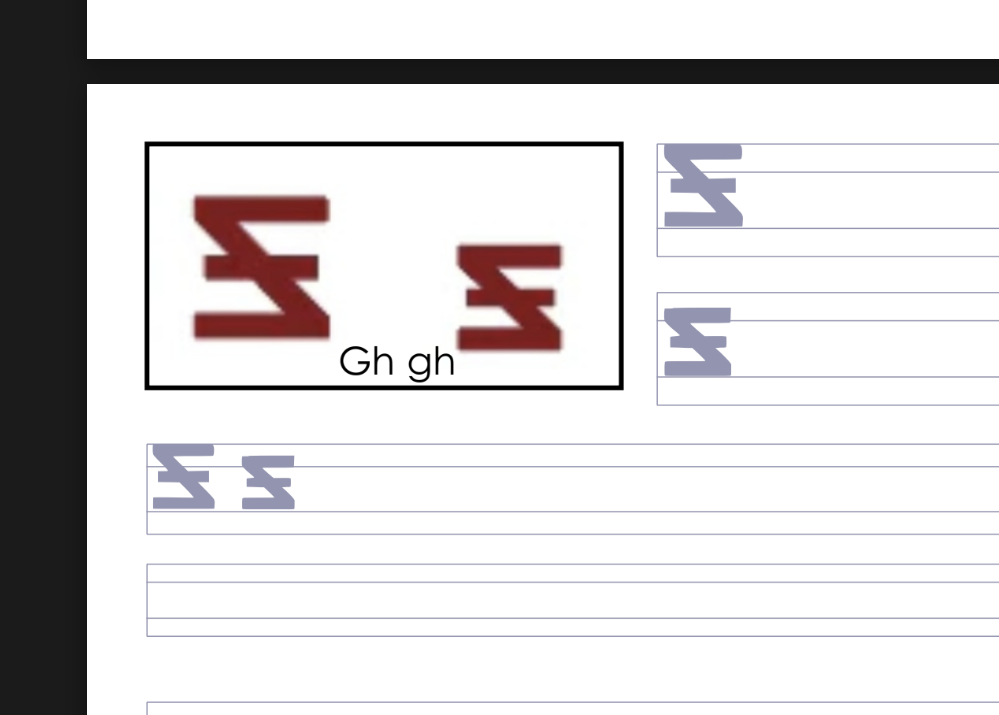GH: (185, 179, 338, 343), (653, 134, 755, 241), (145, 430, 225, 517)
gh: (453, 228, 582, 358), (653, 296, 741, 388), (235, 444, 302, 521)
